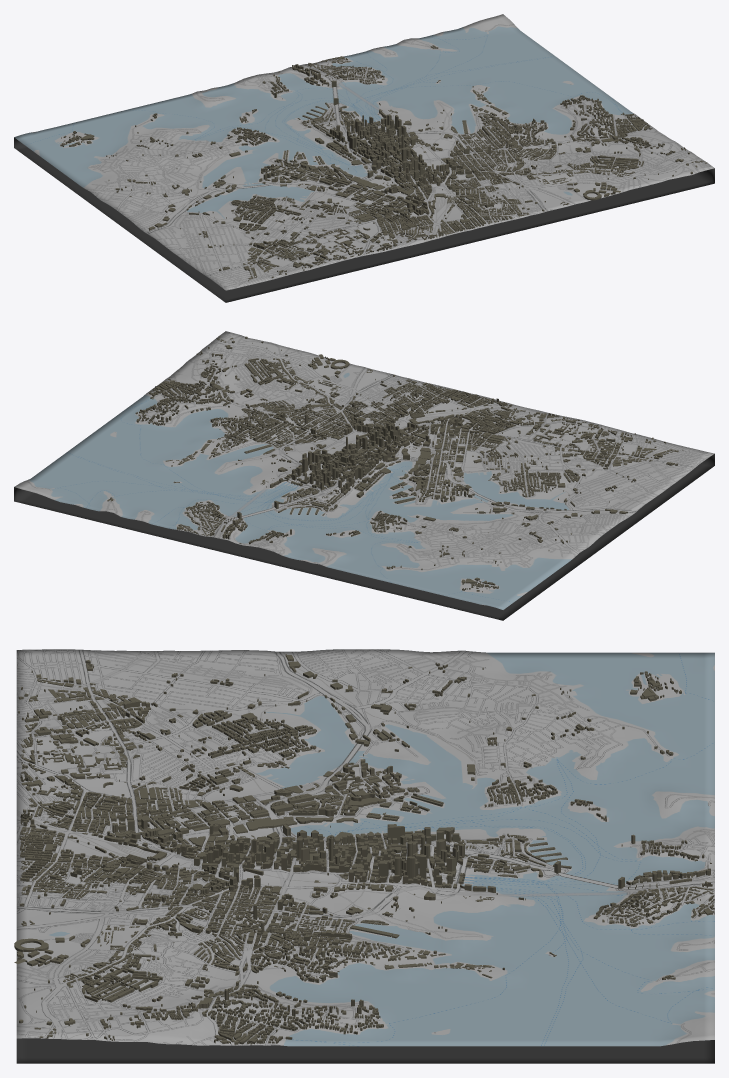
File: sydney-nsw.glb
3 renders of one model, top to bottom at view 1: azimuth 30°, elevation 25°; view 2: azimuth 150°, elevation 25°; view 3: azimuth 270°, elevation 25°, orthographic. The views are drawn at different scales.
Parts seen in each view (by area): view 1: Object_12, Object_10, Object_2, Object_7, Object_6, Object_11, Object_4, Object_9, Object_8, Object_5; view 2: Object_12, Object_10, Object_2, Object_7, Object_6, Object_11, Object_4, Object_9, Object_8, Object_5; view 3: Object_12, Object_10, Object_7, Object_6, Object_2, Object_11, Object_4, Object_9, Object_8, Object_5.
Boxes of the visible parts, x1,y1,x2,y2 form: Object_12: (14, 14, 714, 290); Object_10: (60, 56, 692, 281); Object_2: (14, 137, 714, 302); Object_7: (61, 64, 689, 278); Object_6: (60, 57, 692, 277); Object_11: (71, 95, 627, 278); Object_4: (109, 45, 706, 271); Object_9: (83, 45, 707, 267); Object_8: (135, 100, 627, 279); Object_5: (70, 89, 555, 259); Object_12: (14, 331, 714, 609); Object_10: (135, 336, 683, 589); Object_2: (14, 454, 714, 620); Object_7: (137, 345, 674, 591); Object_6: (160, 337, 673, 592); Object_11: (153, 361, 678, 586); Object_4: (108, 336, 677, 562); Object_9: (107, 337, 671, 581); Object_8: (153, 368, 678, 569); Object_5: (173, 394, 633, 587); Object_12: (16, 649, 714, 1046); Object_10: (14, 661, 713, 1044); Object_7: (17, 663, 710, 1036); Object_6: (14, 662, 714, 1043); Object_2: (16, 1038, 714, 1063); Object_11: (18, 674, 669, 1019); Object_4: (14, 654, 695, 1042); Object_9: (20, 655, 699, 1043); Object_8: (20, 676, 673, 1024); Object_5: (25, 682, 661, 982).
Bounding box in the file's own units: 8807 × 572 × 6625.
3 materials, 1 textured.
